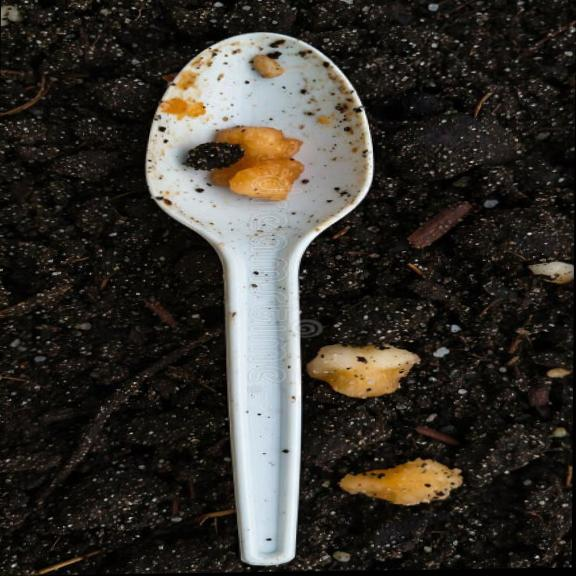Plastik: (146, 33, 372, 565)
